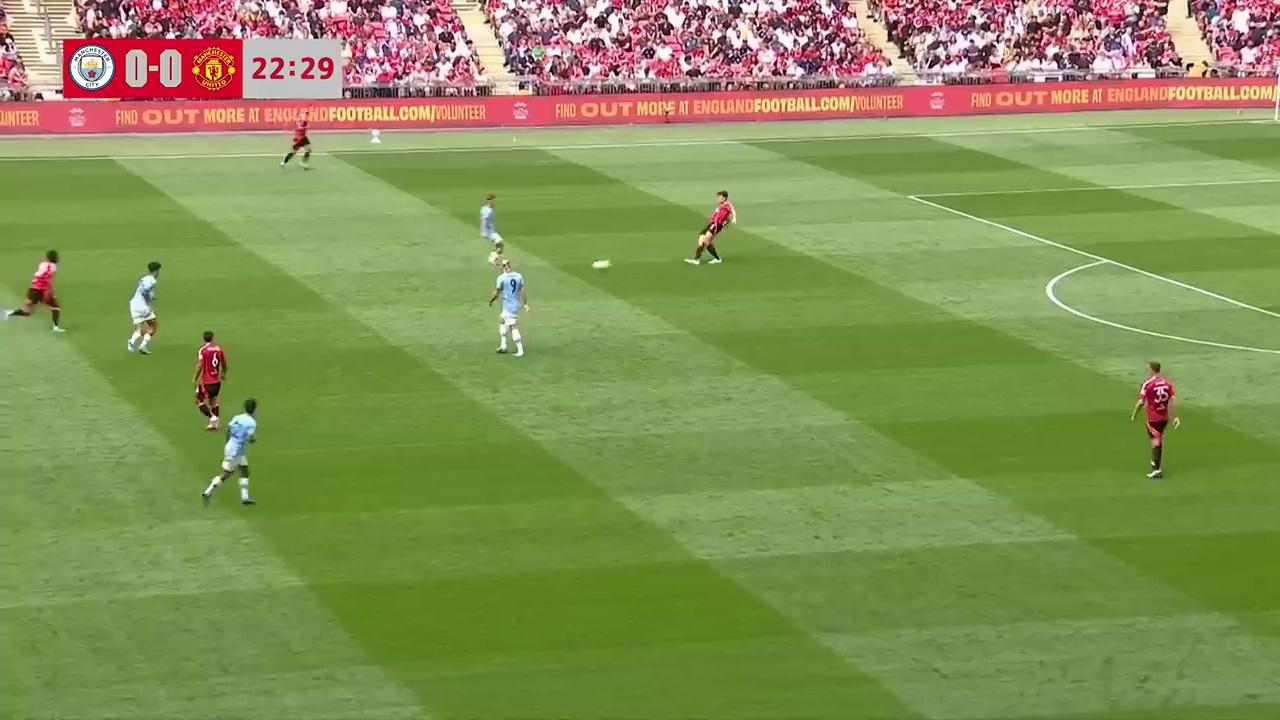ball: (591, 255, 612, 270), (486, 249, 497, 265)
player: (201, 398, 259, 507), (1129, 361, 1178, 479), (7, 250, 63, 331), (687, 185, 741, 265), (489, 260, 528, 356), (192, 330, 227, 429), (127, 261, 162, 354), (281, 114, 313, 170), (479, 193, 503, 257)
